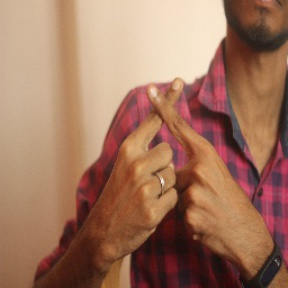X: (104, 70, 235, 182)
